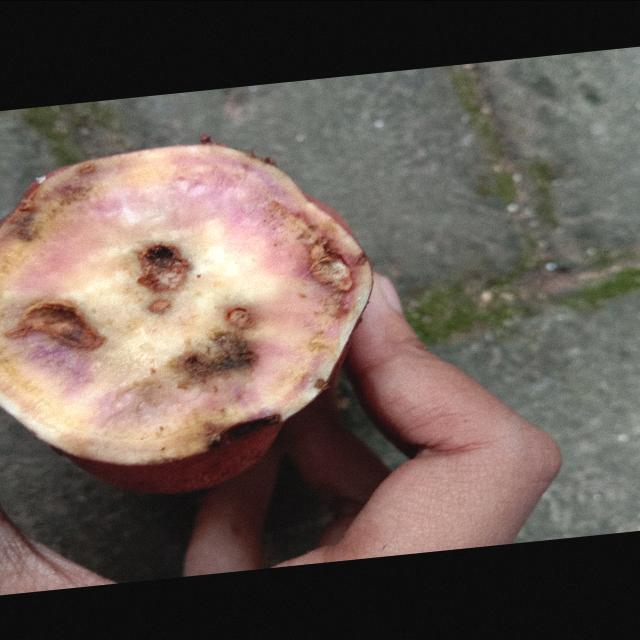Sick Sweet Potato_Tuber Rot: (0, 142, 372, 490)
